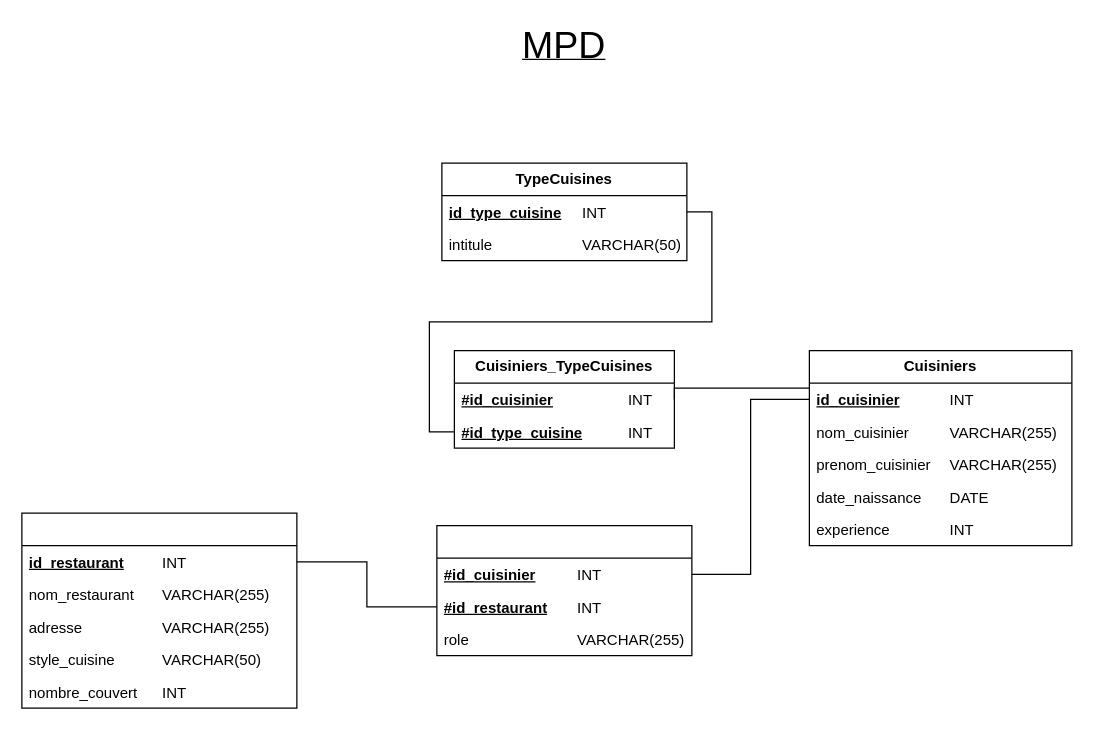
The diagram is 1094 pixels wide and 733 high, and some of its shapes have lost their labels. Each missing label, with the box of its shape:
Cuisiniers_Restaurants: (436, 524, 692, 656)
Restaurants: (21, 512, 297, 708)
